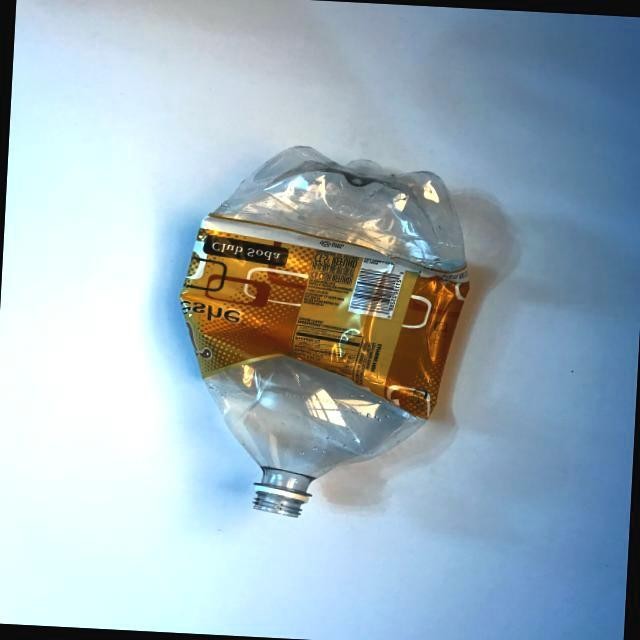plastic: (166, 117, 539, 553)
